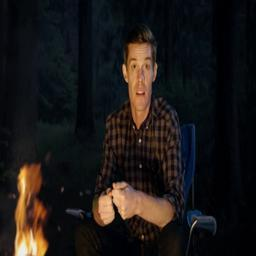fire: (13, 165, 50, 256)
